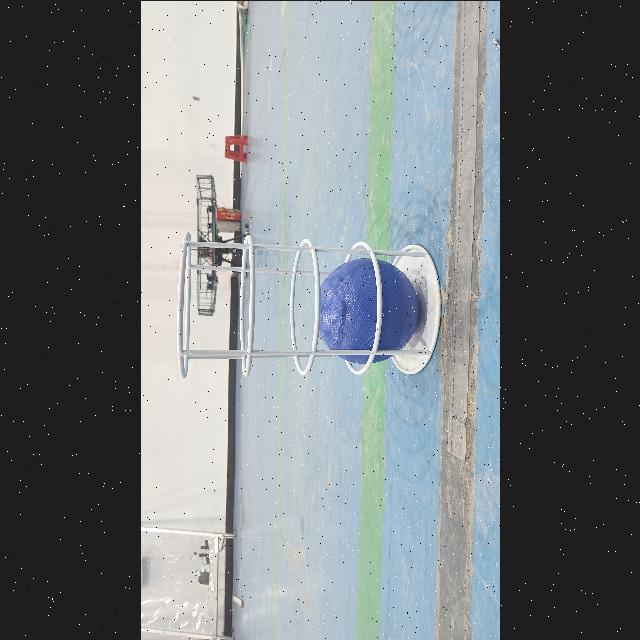B: (316, 257, 419, 363)
S: (170, 222, 446, 382)
